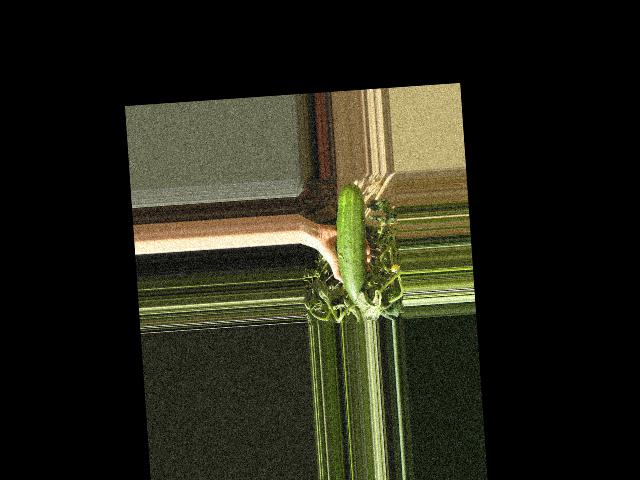cucumber: (332, 182, 371, 306)
